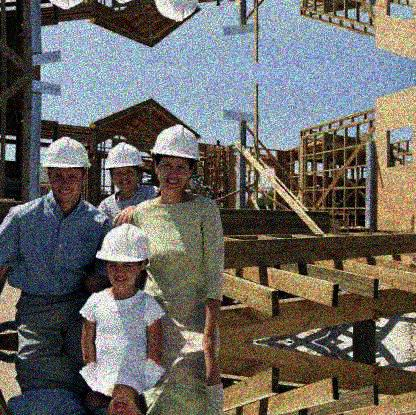helmet: (95, 221, 152, 289), (40, 134, 93, 203), (151, 125, 201, 194), (104, 142, 145, 193)
